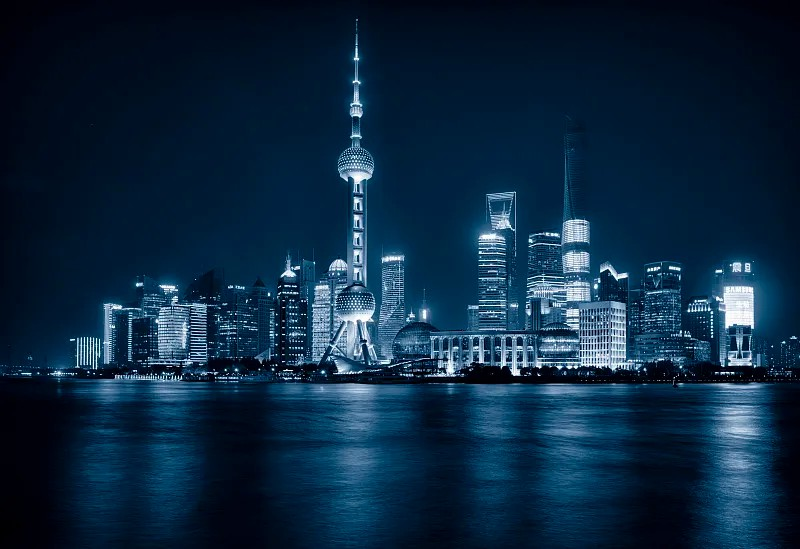Oriental: (318, 18, 379, 365)
